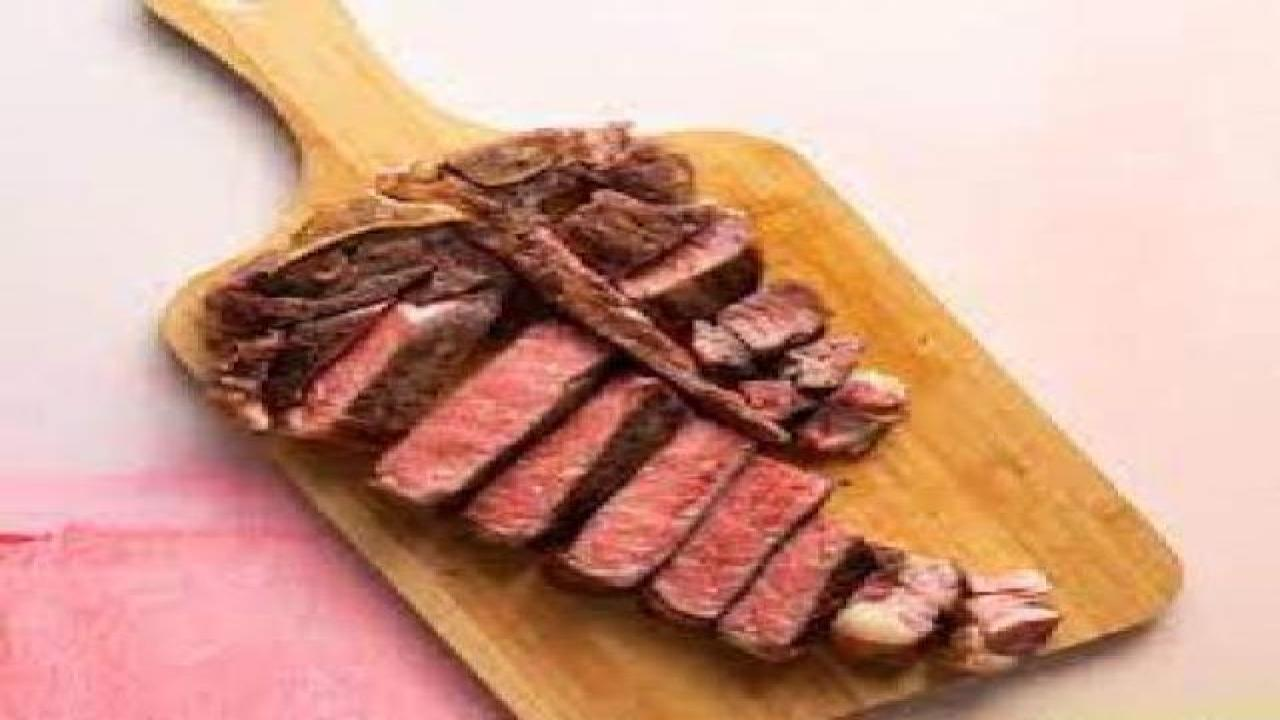Carne: (264, 318, 1052, 676), (150, 110, 769, 358)
